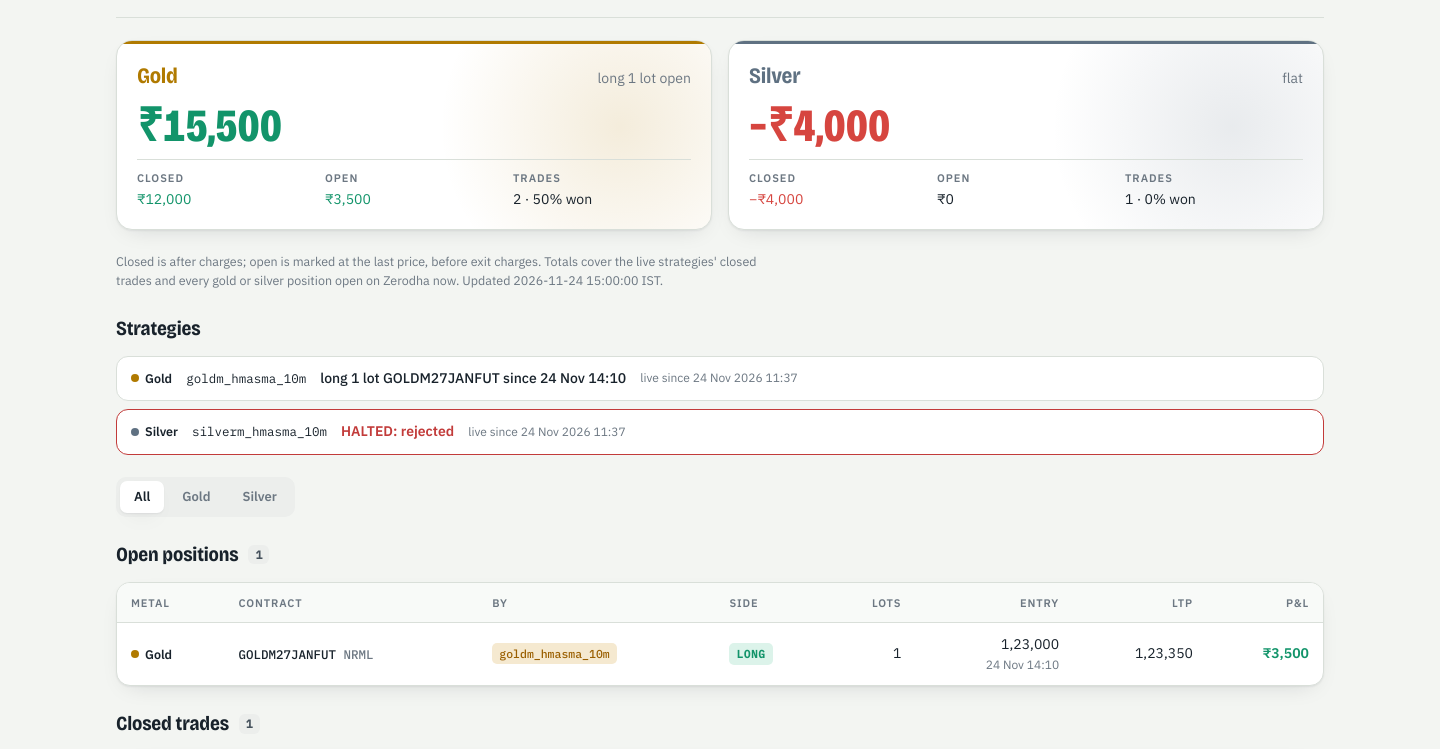
Test case: shows a card per metal and the positions and trades on #metals
Expected: the text "₹15,500" is shown, [137, 98, 282, 153]
Expected: the 1st text "−₹4,000" is shown, [749, 98, 890, 153]
What coordinates should you click on to do the following:
click the radio button labelled "Gold"
I would click on:
 (196, 497)
Its box is [168, 481, 224, 513].
(page scrolled)
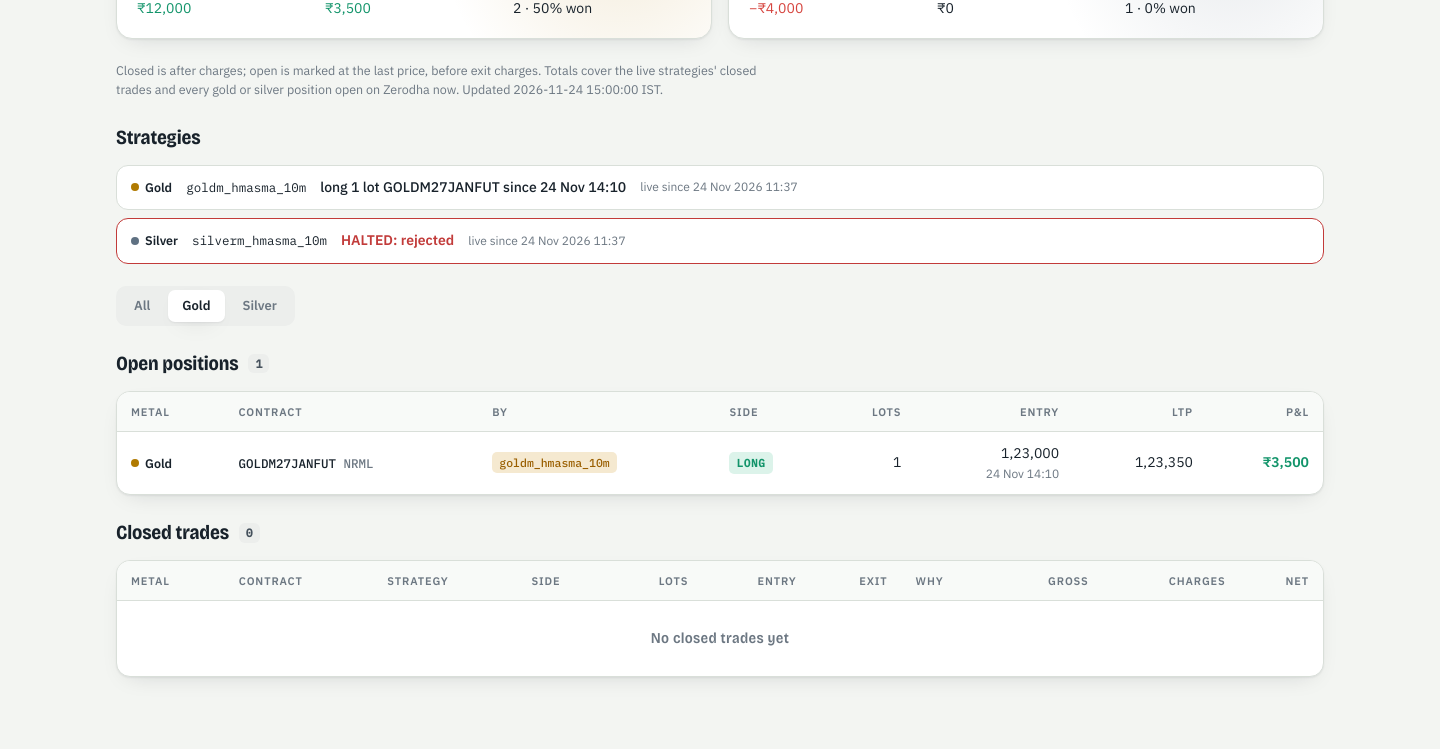
Expected: the text "No closed trades yet" is shown, [117, 601, 1323, 676]
